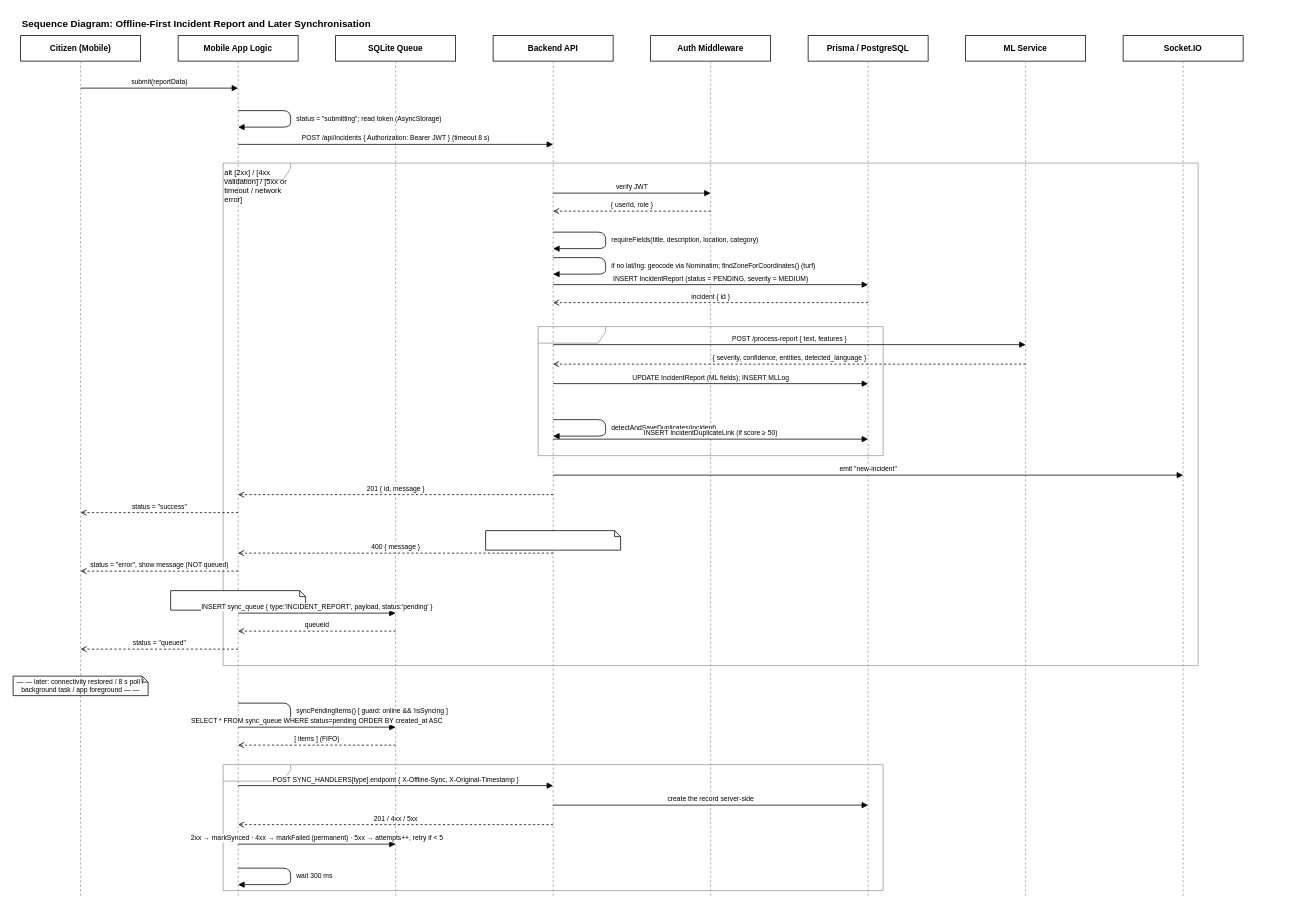
This 1294x912 diagram has some shape labels left out. Each missing label, with the box of its shape:
[ 4xx — validation failed ]: (485, 530, 621, 550)
[ 5xx OR timeout / network error ]: (170, 590, 306, 610)
loop [ for each pending item ]: (222, 764, 883, 891)
par async ML enrichment ∥ duplicate detection: (537, 326, 883, 456)
